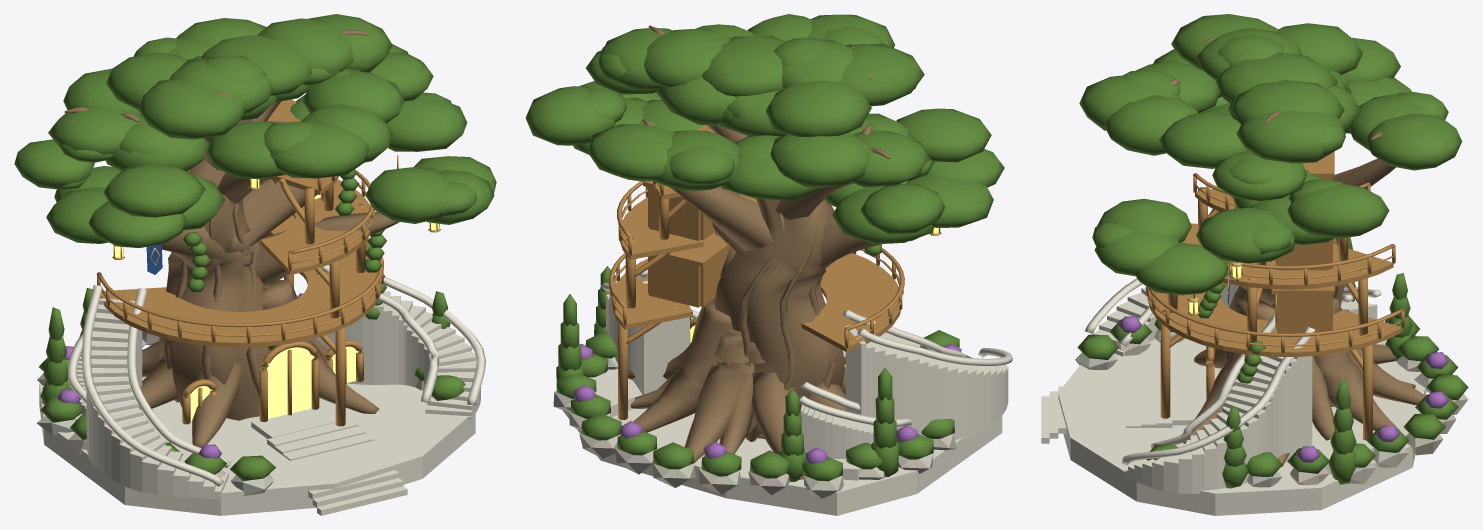
File: habit-v02.glb
3 renders of one model, left to right at view 1: azimuth 30°, elevation 25°; view 2: azimuth 150°, elevation 25°; view 3: azimuth 270°, elevation 25°, orthographic. The views are drawn at different scales.
Visible parts, largest first — view 1: oak-canopy-L2-S4-oak-leaf-and-garden-color, oak-canopy-L3-S4-oak-leaf-and-garden-color, oak-stairs-L1-S1-oak-garden-limestone, oak-canopy-L1-S4-oak-leaf-and-garden-color, oak-trunk-L1-S2-oak-sculpted-bark, oak-galleries-L1-S3-oak-warm-timber, oak-stairs-L1-S3-oak-garden-limestone, oak-trunk-L1-S1-oak-sculpted-bark, oak-stairs-L2-S1-oak-garden-limestone, oak-galleries-L2-S3-oak-warm-timber, oak-stairs-L1-S5-oak-garden-limestone, oak-stairs-L2-S3-oak-garden-limestone (+8 smaller); view 2: oak-canopy-L3-S4-oak-leaf-and-garden-color, oak-canopy-L1-S4-oak-leaf-and-garden-color, oak-canopy-L2-S4-oak-leaf-and-garden-color, oak-trunk-L1-S2-oak-sculpted-bark, oak-stairs-L1-S1-oak-garden-limestone, oak-galleries-L1-S3-oak-warm-timber, oak-trunk-L2-S1-oak-sculpted-bark, oak-stairs-L2-S1-oak-garden-limestone, oak-galleries-L2-S3-oak-warm-timber, oak-stairs-L3-S1-oak-garden-limestone, oak-trunk-L1-S1-oak-sculpted-bark, oak-stairs-L1-S5-oak-garden-limestone (+8 smaller); view 3: oak-canopy-L2-S4-oak-leaf-and-garden-color, oak-canopy-L3-S4-oak-leaf-and-garden-color, oak-stairs-L1-S1-oak-garden-limestone, oak-canopy-L1-S4-oak-leaf-and-garden-color, oak-galleries-L1-S3-oak-warm-timber, oak-stairs-L2-S1-oak-garden-limestone, oak-galleries-L2-S3-oak-warm-timber, oak-stairs-L1-S3-oak-garden-limestone, oak-trunk-L2-S1-oak-sculpted-bark, oak-stairs-L2-S3-oak-garden-limestone, oak-stairs-L2-S5-oak-garden-limestone, oak-galleries-L1-S5-oak-warm-timber (+8 smaller).
Part boxes in pixels (box(x1,y1,x2,y2)): oak-canopy-L2-S4-oak-leaf-and-garden-color: box(14, 44, 496, 480); oak-canopy-L3-S4-oak-leaf-and-garden-color: box(40, 14, 433, 455); oak-stairs-L1-S1-oak-garden-limestone: box(37, 304, 475, 515); oak-canopy-L1-S4-oak-leaf-and-garden-color: box(39, 18, 467, 474); oak-trunk-L1-S2-oak-sculpted-bark: box(159, 119, 317, 420); oak-galleries-L1-S3-oak-warm-timber: box(100, 215, 381, 426); oak-stairs-L1-S3-oak-garden-limestone: box(89, 298, 374, 495); oak-trunk-L1-S1-oak-sculpted-bark: box(139, 279, 378, 448); oak-stairs-L2-S1-oak-garden-limestone: box(41, 306, 480, 495); oak-galleries-L2-S3-oak-warm-timber: box(260, 177, 370, 381); oak-stairs-L1-S5-oak-garden-limestone: box(82, 285, 231, 486); oak-stairs-L2-S3-oak-garden-limestone: box(374, 291, 476, 416); oak-canopy-L3-S4-oak-leaf-and-garden-color: box(556, 24, 991, 481); oak-canopy-L1-S4-oak-leaf-and-garden-color: box(570, 78, 1004, 481); oak-canopy-L2-S4-oak-leaf-and-garden-color: box(525, 14, 959, 476); oak-trunk-L1-S2-oak-sculpted-bark: box(642, 119, 882, 441); oak-stairs-L1-S1-oak-garden-limestone: box(562, 332, 1008, 515); oak-galleries-L1-S3-oak-warm-timber: box(613, 233, 900, 419); oak-trunk-L2-S1-oak-sculpted-bark: box(633, 298, 749, 462); oak-stairs-L2-S1-oak-garden-limestone: box(579, 299, 885, 494); oak-galleries-L2-S3-oak-warm-timber: box(620, 181, 757, 343); oak-stairs-L3-S1-oak-garden-limestone: box(553, 391, 933, 495); oak-trunk-L1-S1-oak-sculpted-bark: box(628, 342, 845, 479); oak-stairs-L1-S5-oak-garden-limestone: box(842, 310, 1012, 366); oak-canopy-L2-S4-oak-leaf-and-garden-color: box(1077, 37, 1458, 488); oak-canopy-L3-S4-oak-leaf-and-garden-color: box(1153, 14, 1458, 467); oak-stairs-L1-S1-oak-garden-limestone: box(1041, 284, 1468, 515); oak-canopy-L1-S4-oak-leaf-and-garden-color: box(1109, 66, 1468, 477); oak-galleries-L1-S3-oak-warm-timber: box(1147, 282, 1402, 440); oak-stairs-L2-S1-oak-garden-limestone: box(1075, 352, 1452, 493); oak-galleries-L2-S3-oak-warm-timber: box(1167, 223, 1393, 342); oak-stairs-L1-S3-oak-garden-limestone: box(1092, 287, 1206, 427); oak-trunk-L2-S1-oak-sculpted-bark: box(1313, 298, 1425, 431); oak-stairs-L2-S3-oak-garden-limestone: box(1125, 340, 1310, 473); oak-stairs-L2-S5-oak-garden-limestone: box(1121, 313, 1315, 465); oak-galleries-L1-S5-oak-warm-timber: box(1146, 286, 1404, 353).
Size of the model in its own units: 3 by 2.65 by 2.77.
